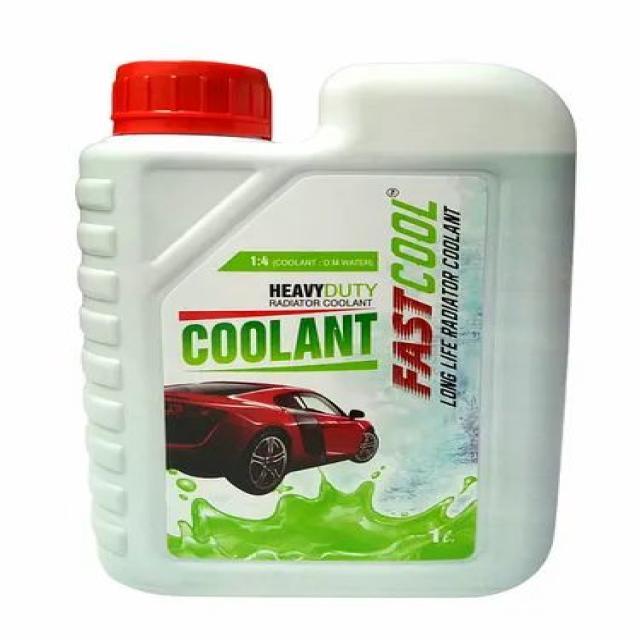coolant: (69, 52, 562, 601)
